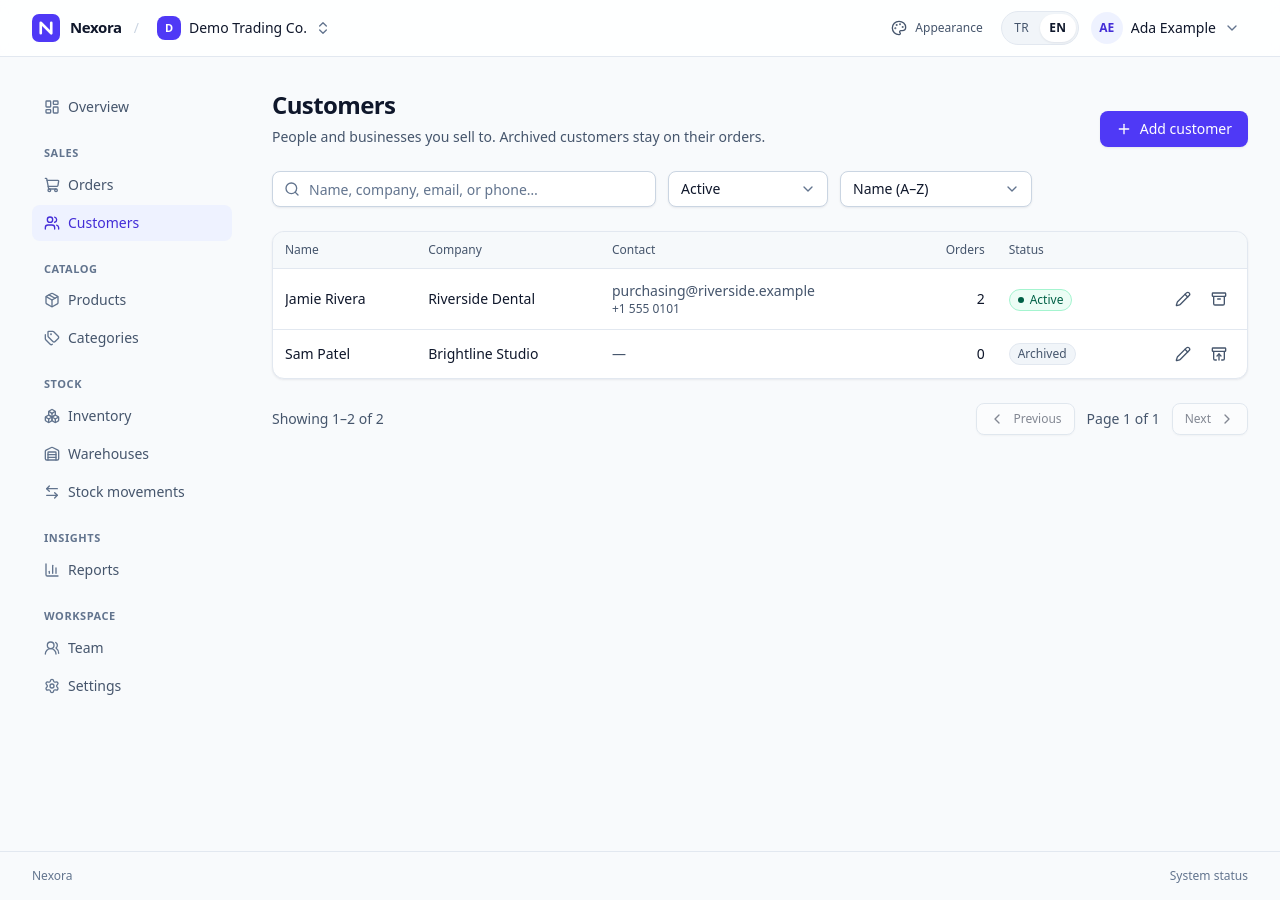
CustomersPage › archives after confirmation and restores directly (ADMIN)
Check: the heading "Customers" is shown, box [272,88,395,121]
Click the button named "Archive Jamie Rivera".
click(1219, 299)  # box [1203,283,1235,315]
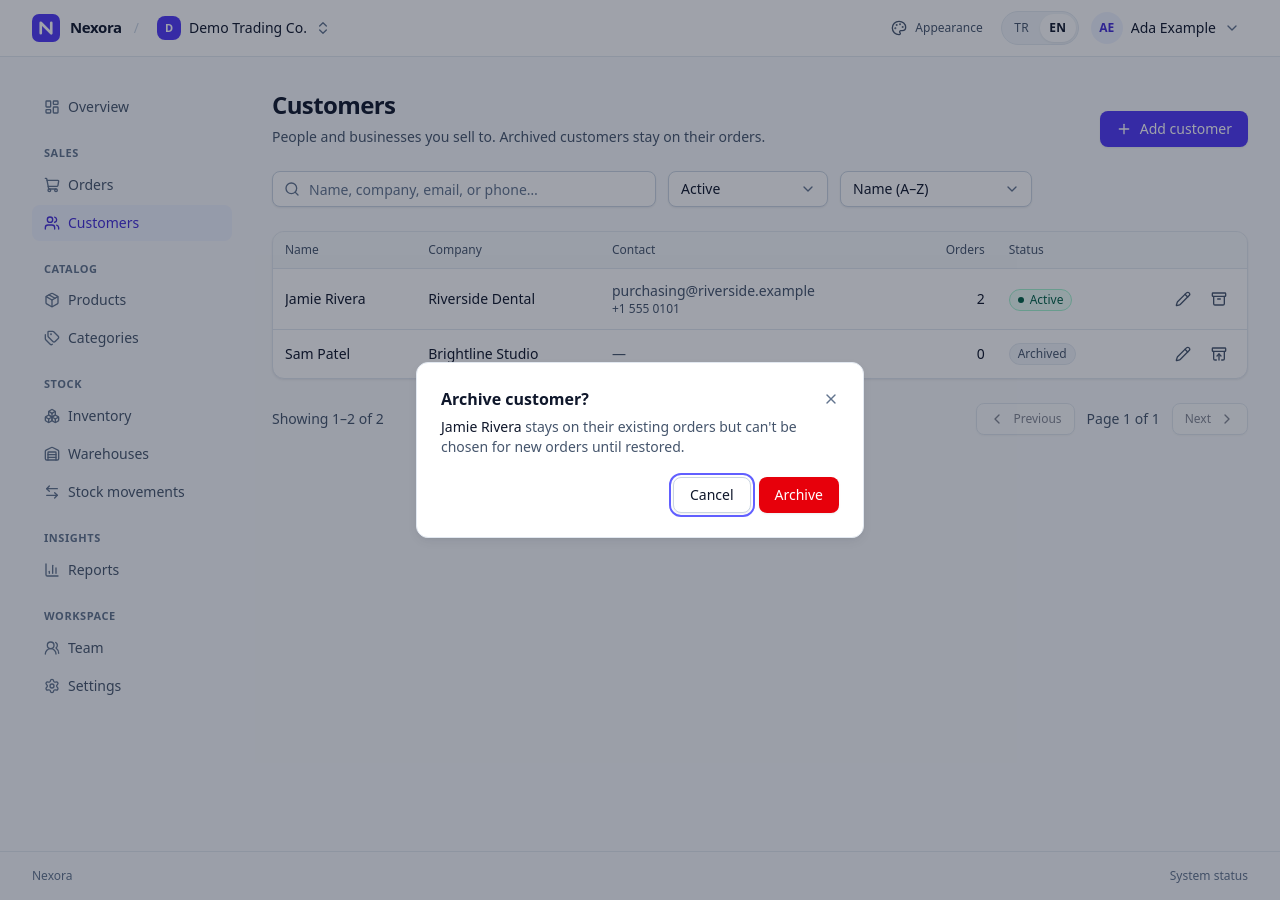
Check: the text "stays on their existing orders" is shown, box [441,417,797,456]
Click the button "Archive".
click(799, 495)  # box [758,477,839,513]
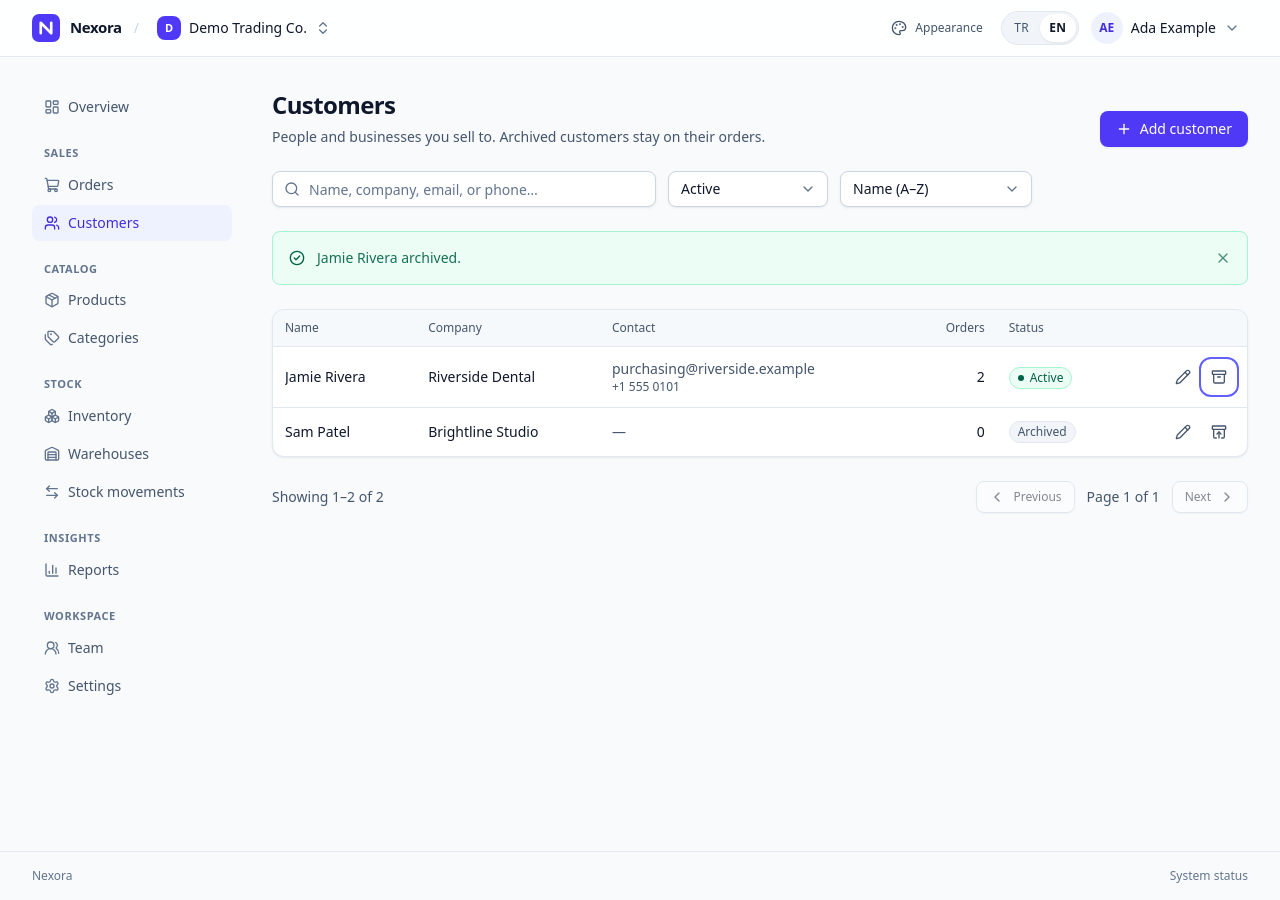
Check: the text "Jamie Rivera archived." is shown, box [317,248,461,267]
Click the button named "Restore Sam Patel".
click(1219, 432)  # box [1203,416,1235,448]
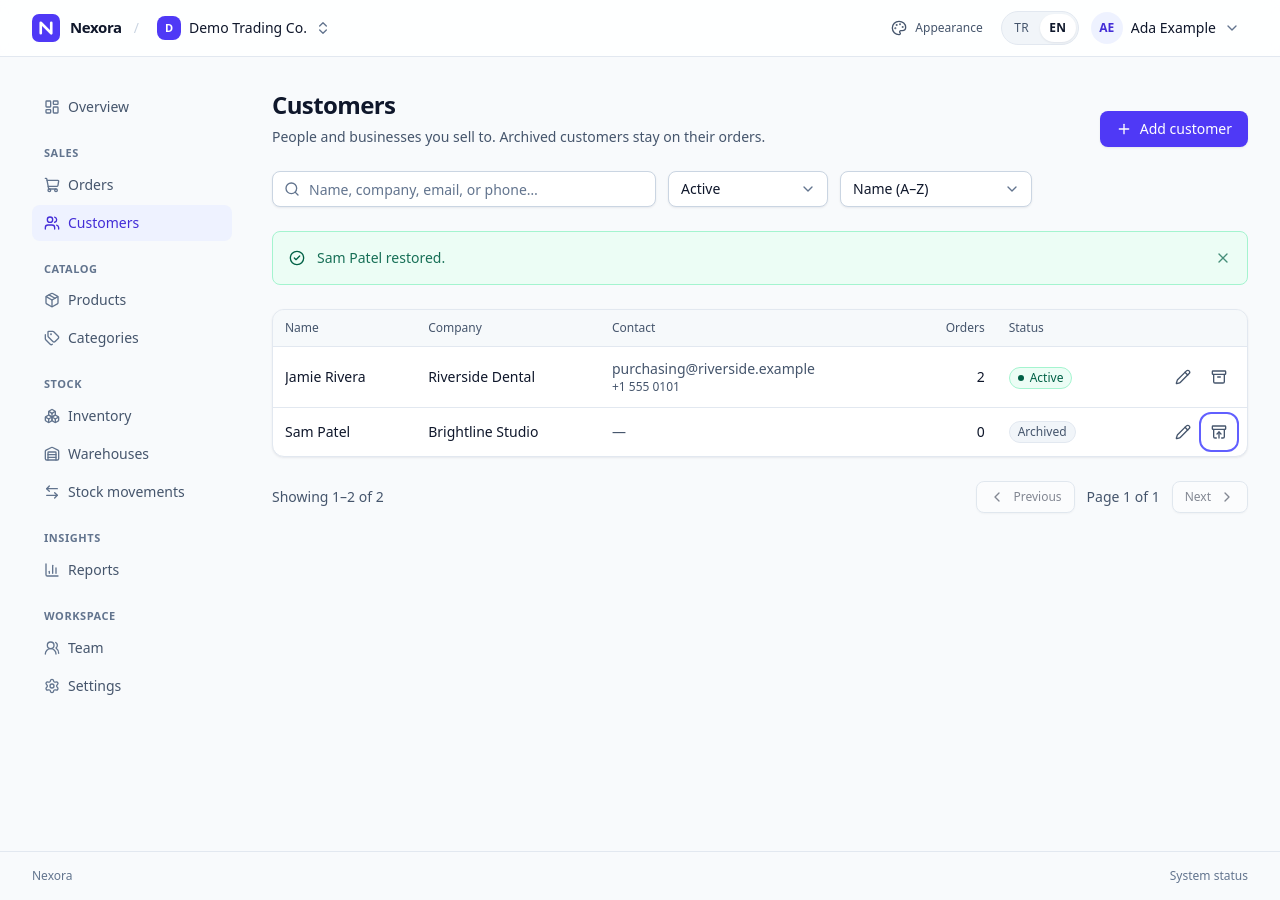
Check: the text "Sam Patel restored." is shown, box [317,248,445,267]
